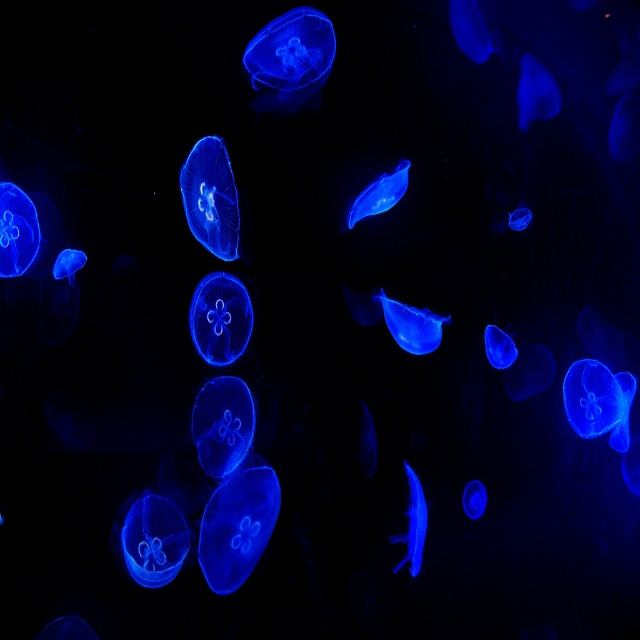Jellyfish: (197, 467, 282, 600), (240, 6, 338, 102), (180, 133, 242, 258), (124, 487, 192, 590), (190, 374, 255, 477), (187, 274, 253, 369), (570, 352, 631, 453), (376, 290, 449, 359), (347, 159, 411, 233), (392, 460, 430, 582), (0, 185, 42, 280), (446, 0, 496, 67), (517, 57, 561, 132), (506, 346, 558, 403), (608, 89, 640, 160), (484, 322, 516, 369), (56, 246, 88, 290), (620, 430, 640, 494), (461, 479, 486, 521), (507, 206, 531, 232)
